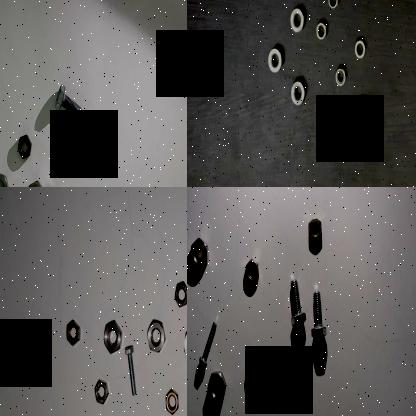Bolts: (284, 272, 308, 336), (194, 314, 218, 374), (307, 282, 327, 344), (52, 82, 82, 122), (125, 340, 139, 400)
NUTS: (303, 210, 327, 248), (187, 233, 209, 273), (100, 320, 124, 355), (146, 318, 168, 355), (207, 368, 227, 406), (242, 352, 262, 388), (266, 45, 284, 79), (289, 4, 307, 37), (290, 75, 306, 111), (15, 130, 33, 160), (65, 318, 82, 348), (318, 103, 331, 141), (164, 386, 180, 416), (244, 258, 260, 286), (94, 378, 109, 406), (314, 18, 330, 44), (173, 281, 187, 310), (354, 96, 369, 118), (355, 36, 367, 62), (334, 66, 348, 88), (182, 326, 187, 364), (326, 0, 339, 13), (24, 180, 45, 187)
